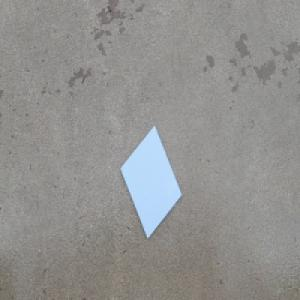PaintChip: (119, 122, 183, 240)
